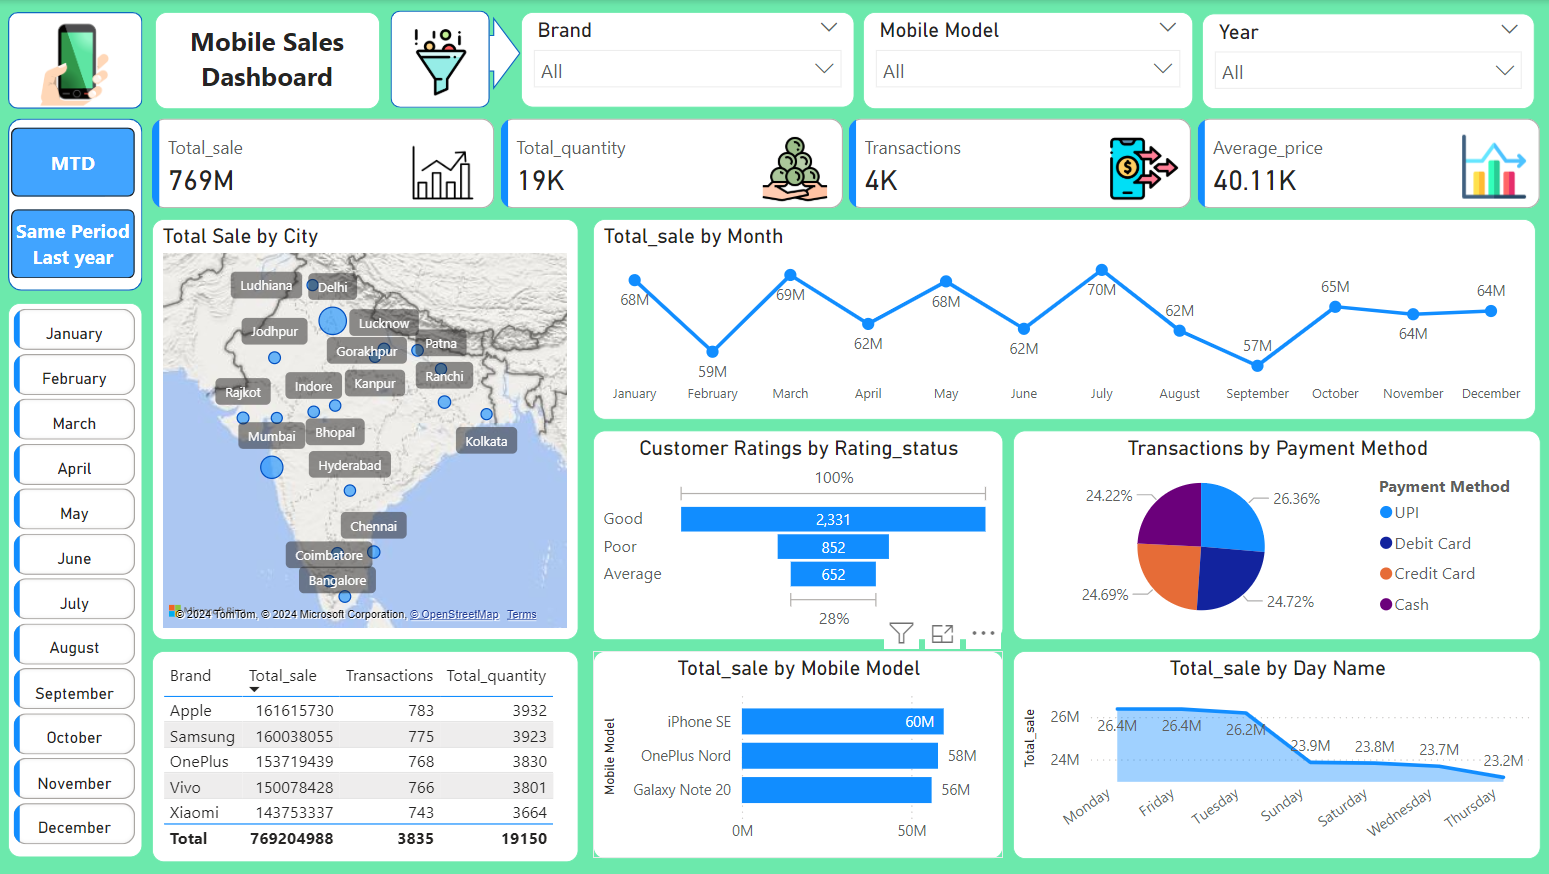

The dashboard page shown, as its layout file describes it:
{"tool":"powerbi","page":{"name":"Dashboard","canvas":[1280,720],"ordinal":0},"visuals":[{"type":"shape","box":[386.6,13.6,45.4,60.6],"z":0},{"type":"shape","box":[9.5,9.5,110.8,79.8],"z":1000},{"type":"image","box":[9.5,12.2,110.8,79.8],"z":2000},{"type":"textbox","box":[131.1,9.5,185.2,79.8],"z":3000},{"type":"slicer","fields":{"Values":["Mobile_sales_data.Brand"]},"box":[432.5,9.5,274.4,78.4],"z":4000},{"type":"advancedSlicerVisual","fields":{"Values":["custom_calender.Date.Variation.Date Hierarchy.Month"]},"box":[9.5,250.1,110.8,456.9],"z":5000},{"type":"slicer","fields":{"Values":["custom_calender.Date.Variation.Date Hierarchy.Year"]},"box":[993.3,10.6,274.1,78.7],"z":6000},{"type":"slicer","fields":{"Values":["Mobile_sales_data.Mobile Model"]},"box":[713.7,9.5,271.7,79.8],"z":7000},{"type":"shape","box":[9.5,97.3,110.8,141.9],"z":8000},{"type":"shape","box":[324.5,9.1,81.8,80.3],"z":9000},{"type":"image","box":[333.6,0,65.1,103],"z":10000},{"type":"cardVisual","fields":{"Data":["Mobile_sales_data.Total_sale","Mobile_sales_data.Total_quantity","Mobile_sales_data.Transactions","Mobile_sales_data.Average_price"]},"box":[128.4,97.3,1143.6,74.3],"z":22000},{"type":"map","title":"Total Sale by City","fields":{"Category":["Mobile_sales_data.City"],"Size":["Mobile_sales_data.total_sale"]},"box":[128.7,180.2,351.3,346.8],"z":22500},{"type":"lineChart","fields":{"Y":["Mobile_sales_data.total_sale"],"Category":["custom_calender.Date.Variation.Date Hierarchy.Month"]},"box":[492.1,180.2,776.8,165],"z":23000},{"type":"tableEx","fields":{"Values":["Mobile_sales_data.Brand","Mobile_sales_data.Total_sale","Mobile_sales_data.Transactions","Mobile_sales_data.Total_quantity"]},"box":[128.7,536,351.3,174.1],"z":23500},{"type":"funnel","title":"Customer Ratings by Rating_status","fields":{"Category":["Mobile_sales_data.Rating_status"],"Y":["CountNonNull(Mobile_sales_data.Customer Ratings)"]},"box":[492.1,354.3,337.7,172.6],"z":24000},{"type":"pieChart","fields":{"Category":["Mobile_sales_data.Payment Method"],"Y":["Mobile_sales_data.Transactions"]},"box":[837.4,354.3,434.6,172.6],"z":24500},{"type":"barChart","fields":{"Y":["Mobile_sales_data.Total_sale"],"Category":["Mobile_sales_data.Mobile Model"]},"box":[492.1,536,337.7,171.1],"z":25000},{"type":"lineChart","fields":{"Category":["custom_calender.Day Name"],"Y":["Mobile_sales_data.Total_sale"]},"box":[837.4,536,434.6,171.1],"z":25500},{"type":"pageNavigator","box":[12.1,104.5,103,124.2],"z":25501}]}

Visuals, with their boxes in screenshot pixels (x1, y1, x2, y2), scaled from the page's 1280x720 canvas onto the 1549x874 screenshot:
shape: <bbox>468, 17, 523, 90</bbox>
shape: <bbox>11, 12, 146, 108</bbox>
image: <bbox>11, 15, 146, 112</bbox>
textbox: <bbox>159, 12, 383, 108</bbox>
slicer - Mobile_sales_data.Brand: <bbox>523, 12, 855, 107</bbox>
advancedSlicerVisual - custom_calender.Date.Variation.Date Hierarchy.Month: <bbox>11, 304, 146, 858</bbox>
slicer - custom_calender.Date.Variation.Date Hierarchy.Year: <bbox>1202, 13, 1534, 108</bbox>
slicer - Mobile_sales_data.Mobile Model: <bbox>864, 12, 1192, 108</bbox>
shape: <bbox>11, 118, 146, 290</bbox>
shape: <bbox>393, 11, 492, 109</bbox>
image: <bbox>404, 0, 482, 125</bbox>
cardVisual - Mobile_sales_data.Total_sale x Mobile_sales_data.Total_quantity: <bbox>155, 118, 1539, 208</bbox>
"Total Sale by City" map: <bbox>156, 219, 581, 640</bbox>
lineChart - Mobile_sales_data.total_sale x custom_calender.Date.Variation.Date Hierarchy.Month: <bbox>596, 219, 1536, 419</bbox>
tableEx - Mobile_sales_data.Brand x Mobile_sales_data.Total_sale: <bbox>156, 651, 581, 862</bbox>
"Customer Ratings by Rating_status" funnel: <bbox>596, 430, 1004, 640</bbox>
pieChart - Mobile_sales_data.Payment Method x Mobile_sales_data.Transactions: <bbox>1013, 430, 1539, 640</bbox>
barChart - Mobile_sales_data.Total_sale x Mobile_sales_data.Mobile Model: <bbox>596, 651, 1004, 858</bbox>
lineChart - custom_calender.Day Name x Mobile_sales_data.Total_sale: <bbox>1013, 651, 1539, 858</bbox>
pageNavigator: <bbox>15, 127, 139, 278</bbox>
